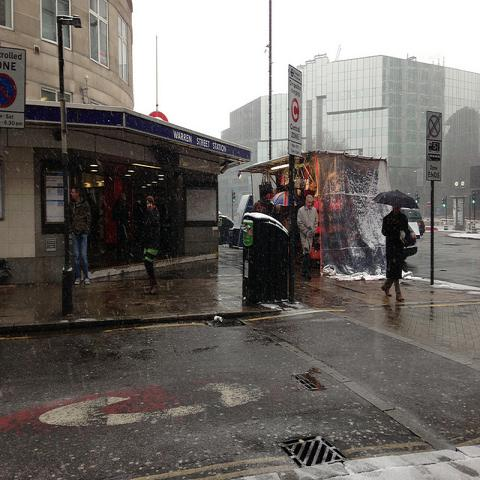car: (401, 208, 426, 239), (403, 224, 418, 260)
